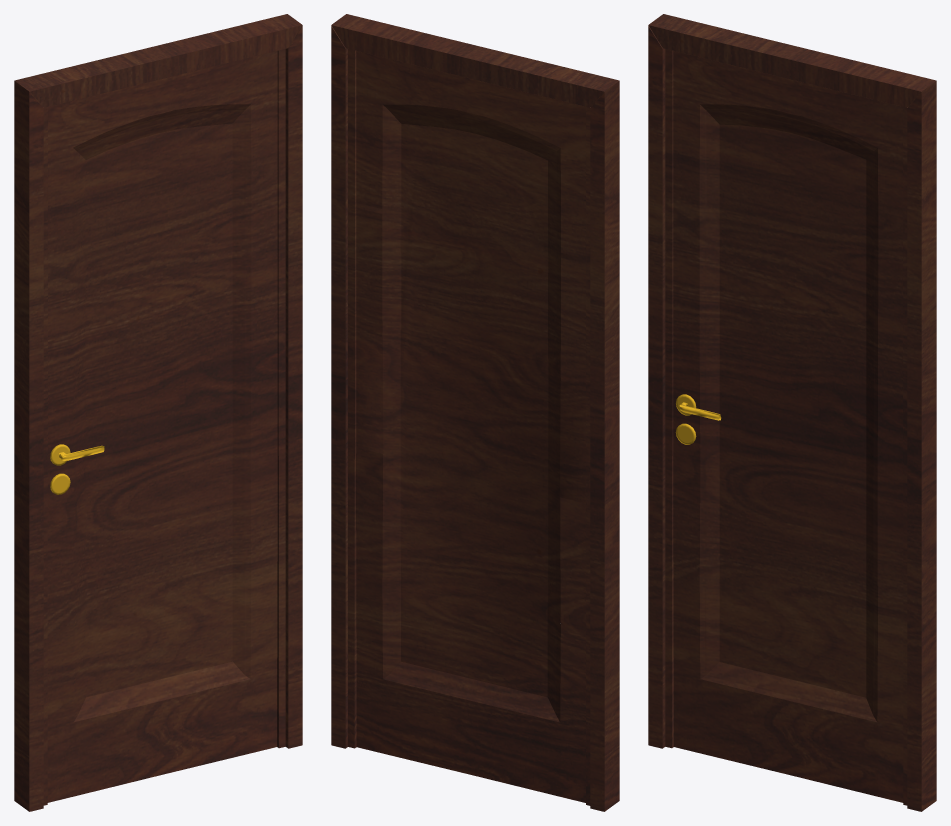
The model's file is PUERTA45_NEVADA.glb.
3 renders of one model, left to right at view 1: azimuth 30°, elevation 25°; view 2: azimuth 150°, elevation 25°; view 3: azimuth 330°, elevation 25°, orthographic.
Visible parts, largest first — view 1: Puerta45_NEVADA, Puerta45_Marco, Puerta45_Cerradura; view 2: Puerta45_NEVADA, Puerta45_Marco; view 3: Puerta45_NEVADA, Puerta45_Marco, Puerta45_Cerradura.
Boxes of the visible parts, x1,y1,x2,y2 form: Puerta45_NEVADA: (43,49,285,805); Puerta45_Marco: (14,14,302,811); Puerta45_Cerradura: (50,444,104,494); Puerta45_NEVADA: (348,49,590,805); Puerta45_Marco: (331,14,619,811); Puerta45_NEVADA: (665,49,907,805); Puerta45_Marco: (648,14,936,811); Puerta45_Cerradura: (675,394,721,444).
Bounding box in the file's own units: 769 × 1936 × 85.
Materials: 4 (3 with a texture image).
